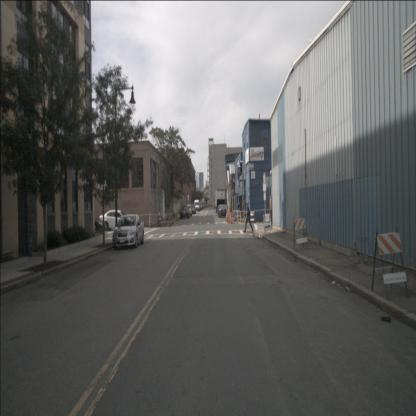cone: (148, 214, 152, 229), (226, 209, 230, 223), (164, 214, 168, 227), (168, 214, 172, 227), (228, 209, 231, 224), (157, 211, 160, 223), (171, 213, 174, 225), (225, 211, 228, 222), (232, 213, 235, 224), (230, 214, 233, 223)
